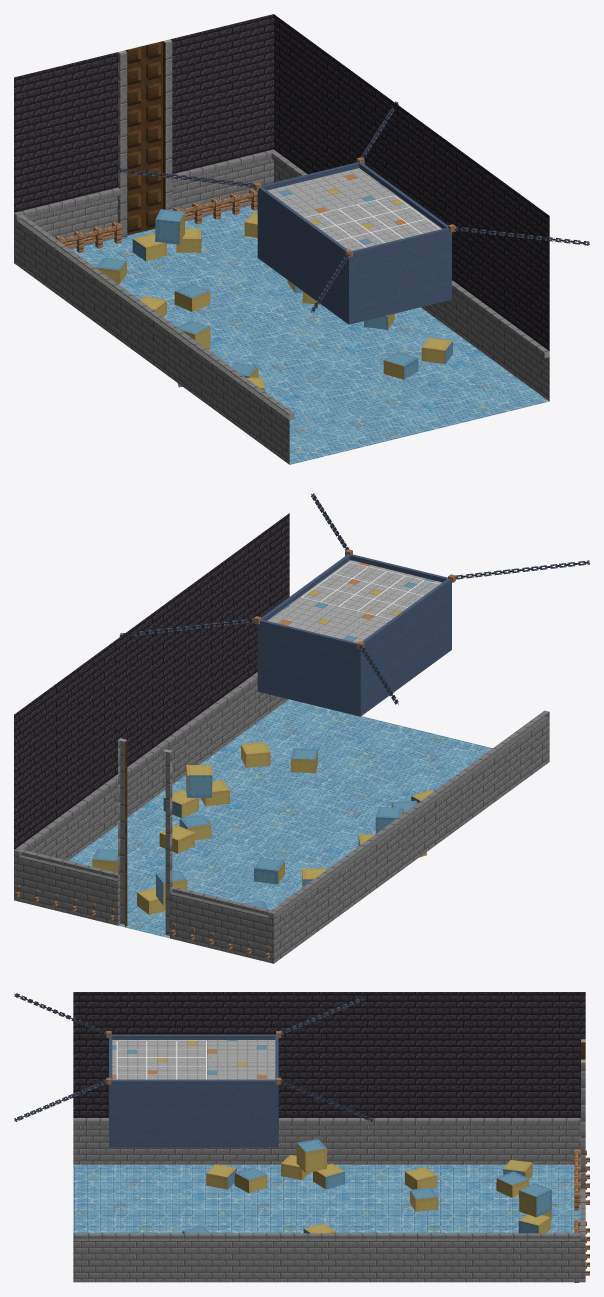
File: map_1.fbx
3 views of the same model, one above another, from view 1: azimuth 30°, elevation 25°; view 2: azimuth 150°, elevation 25°; view 3: azimuth 270°, elevation 25° (orthographic). The views are drawn at different scales.
Visible parts, largest first — view 1: map_1, grid; view 2: map_1, grid; view 3: map_1, grid.
Part boxes in pixels (left/top/right/bottom): map_1: left=14, top=14, right=589, bottom=464; grid: left=304, top=195, right=440, bottom=247; map_1: left=14, top=493, right=589, bottom=963; grid: left=301, top=562, right=439, bottom=619; map_1: left=14, top=992, right=589, bottom=1282; grid: left=116, top=1040, right=206, bottom=1079.
Size of the model in its own units: 65.58 by 43.79 by 126.
Materials: 9 (8 with a texture image).
